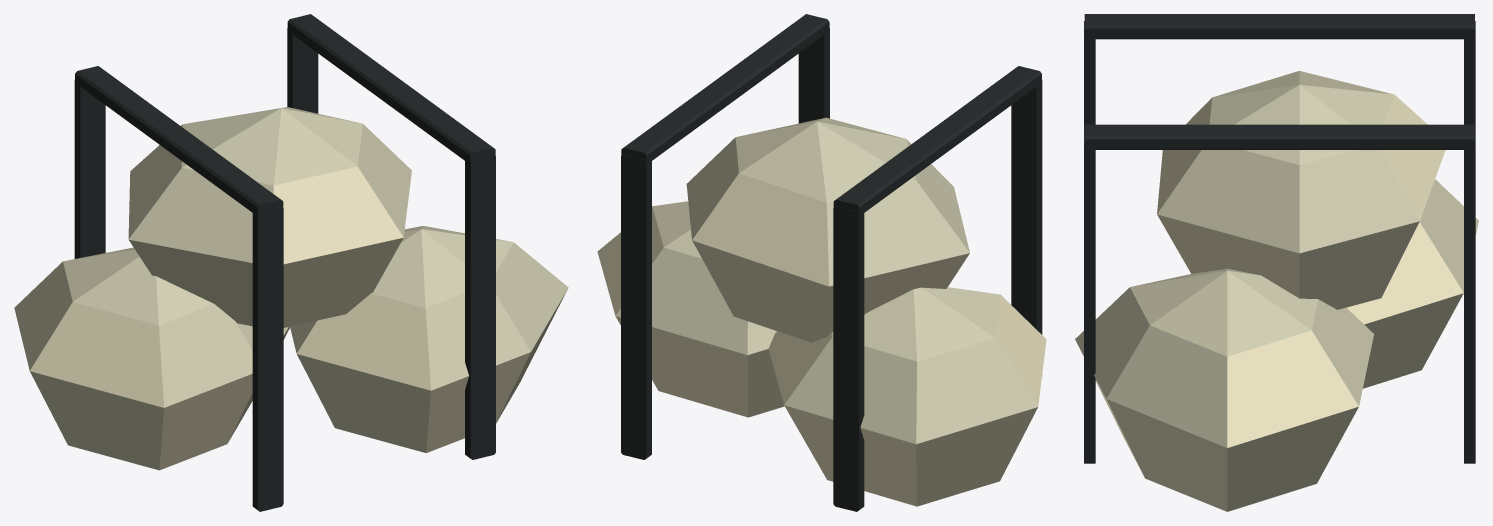
The model's file is Cotton.gltf.
3 views of the same model, side by side, from view 1: azimuth 30°, elevation 25°; view 2: azimuth 150°, elevation 25°; view 3: azimuth 270°, elevation 25° (orthographic). The views are drawn at different scales.
Visible parts, largest first — view 1: Cotton; view 2: Cotton; view 3: Cotton.
Part boxes in pixels (left/top/right/bottom): Cotton: left=14, top=14, right=568, bottom=511; Cotton: left=597, top=14, right=1046, bottom=511; Cotton: left=1075, top=14, right=1478, bottom=511.
Size of the model in its own units: 0.4611 by 0.276 by 0.3084.
